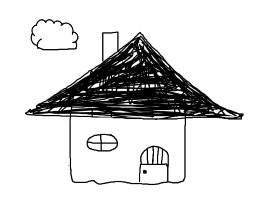chimney: (97, 25, 124, 64)
closed_window: (80, 130, 122, 153)
clouds: (25, 13, 83, 54)
door: (136, 140, 172, 188)
shaded_roof: (14, 31, 254, 124)
wall: (65, 111, 193, 192)
